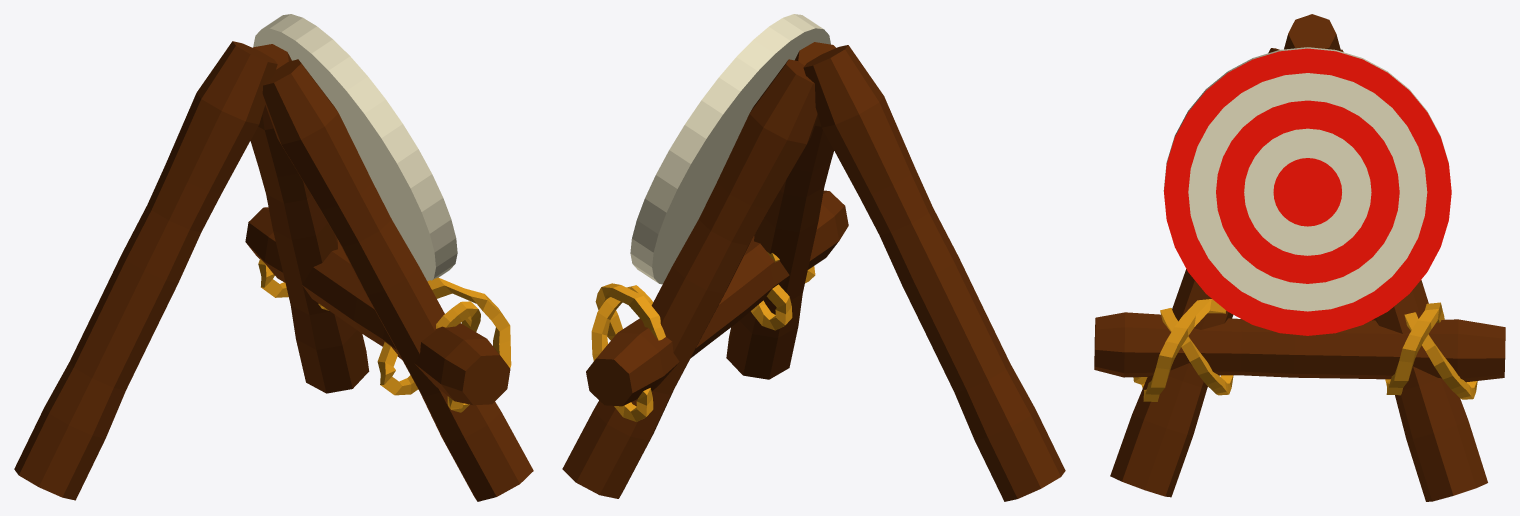
Rendered from target 1.fbx.
3 renders of one model, left to right at view 1: azimuth 30°, elevation 25°; view 2: azimuth 150°, elevation 25°; view 3: azimuth 270°, elevation 25°, orthographic. The views are drawn at different scales.
Visible parts, largest first — view 1: Cube.003; view 2: Cube.003; view 3: Cube.003.
Part boxes in pixels (x1,y1,x2,y2): Cube.003: (14, 14, 533, 501); Cube.003: (562, 14, 1065, 501); Cube.003: (1094, 14, 1505, 501).
Bounding box in the file's own units: 206 × 204 × 184.
